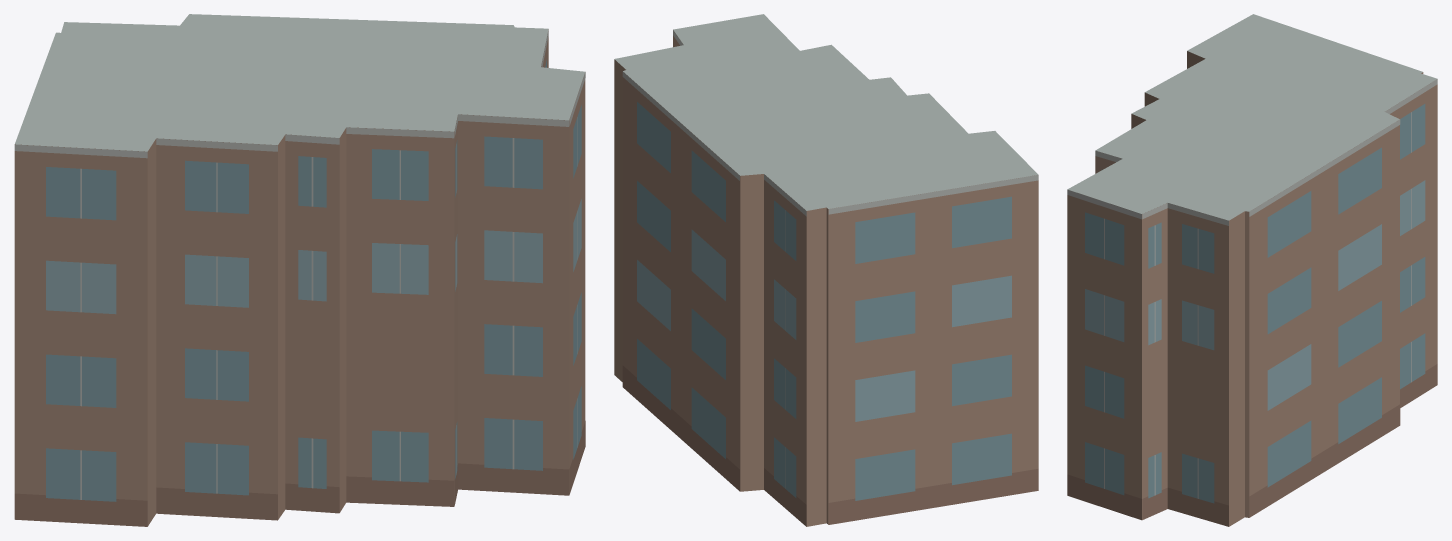
The model's file is survey-upis-33028845.glb.
The picture shows the model from 3 angles, left to right: view 1: azimuth 30°, elevation 25°; view 2: azimuth 150°, elevation 25°; view 3: azimuth 270°, elevation 25°; orthographic projection. The views are drawn at different scales.
Parts seen in each view (by area): view 1: survey-upis-33028845.tmp; view 2: survey-upis-33028845.tmp; view 3: survey-upis-33028845.tmp.
Boxes of the visible parts, x1=… form: survey-upis-33028845.tmp: x1=14, y1=14, x2=585, y2=526; survey-upis-33028845.tmp: x1=614, y1=14, x2=1038, y2=526; survey-upis-33028845.tmp: x1=1067, y1=14, x2=1437, y2=526.
Bounding box in the file's own units: 19.97 × 13.79 × 15.13.
